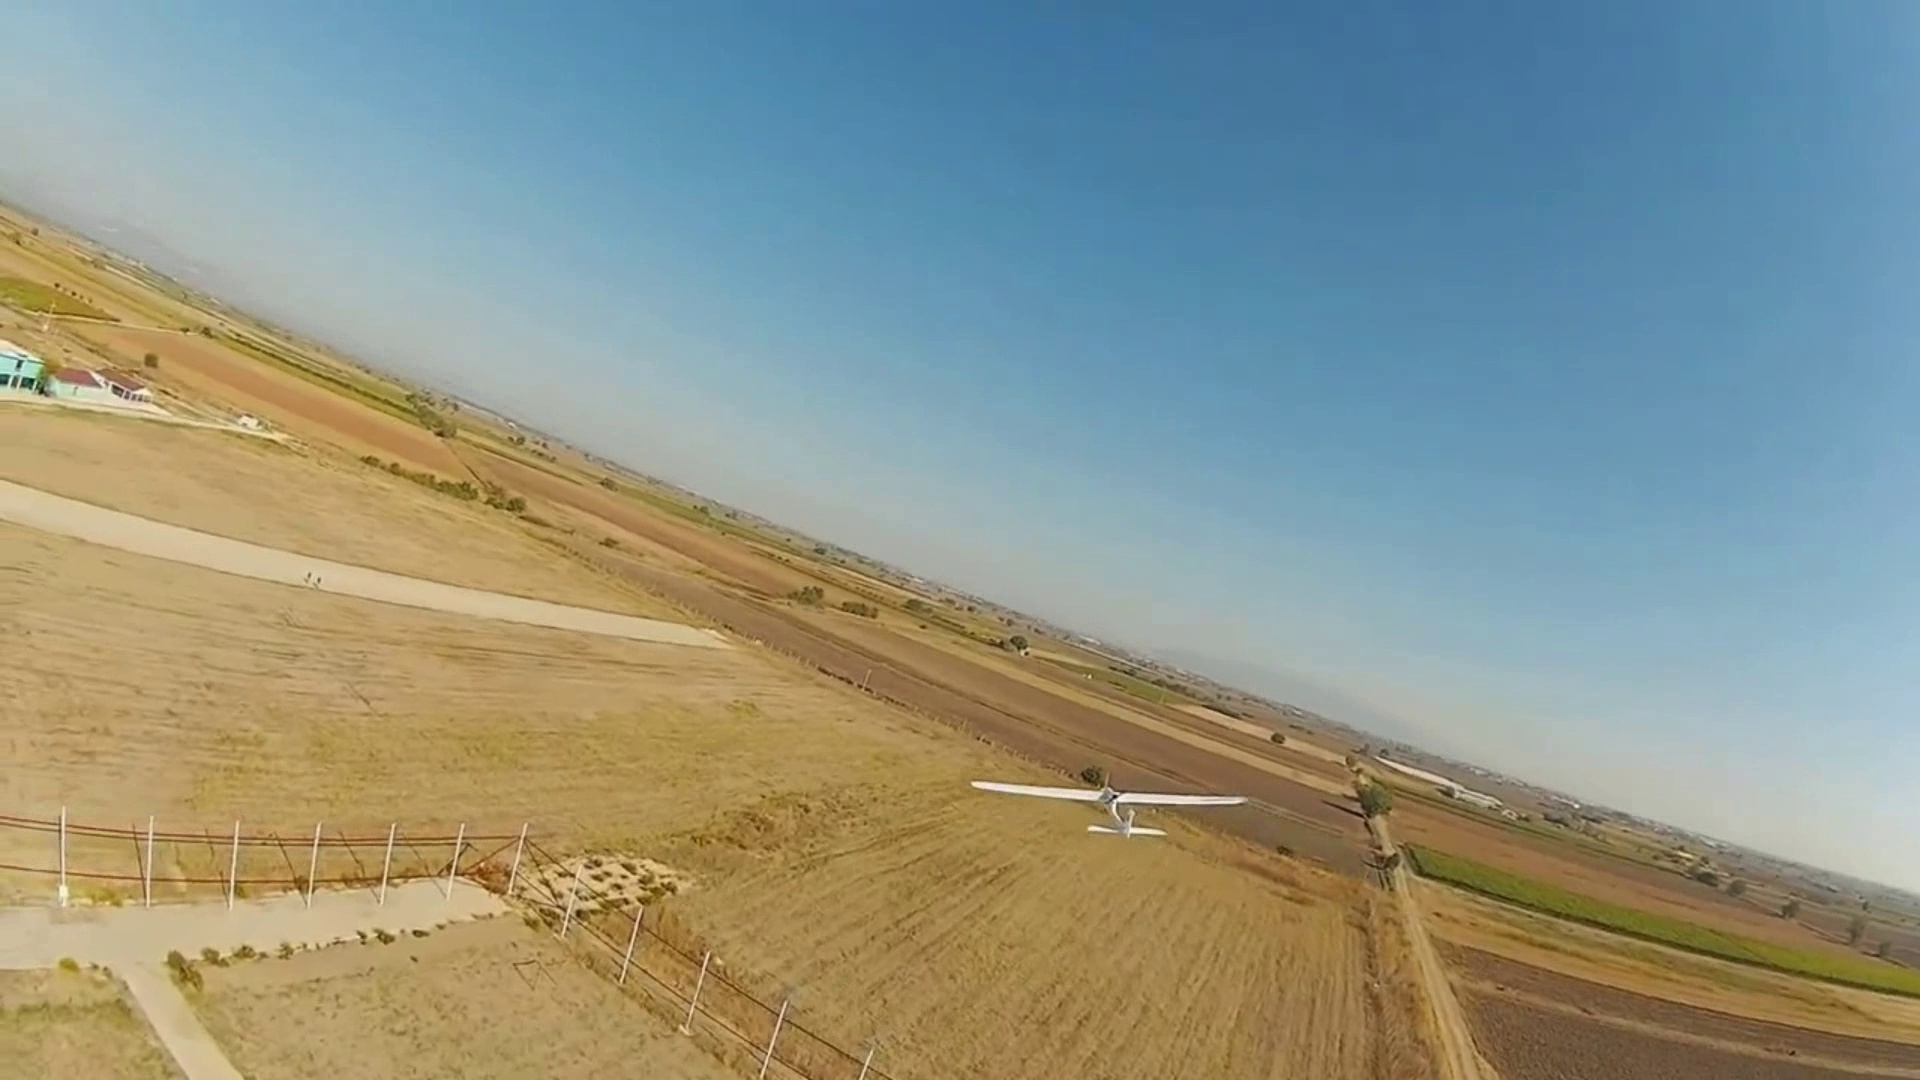airplane: (976, 769, 1247, 832)
